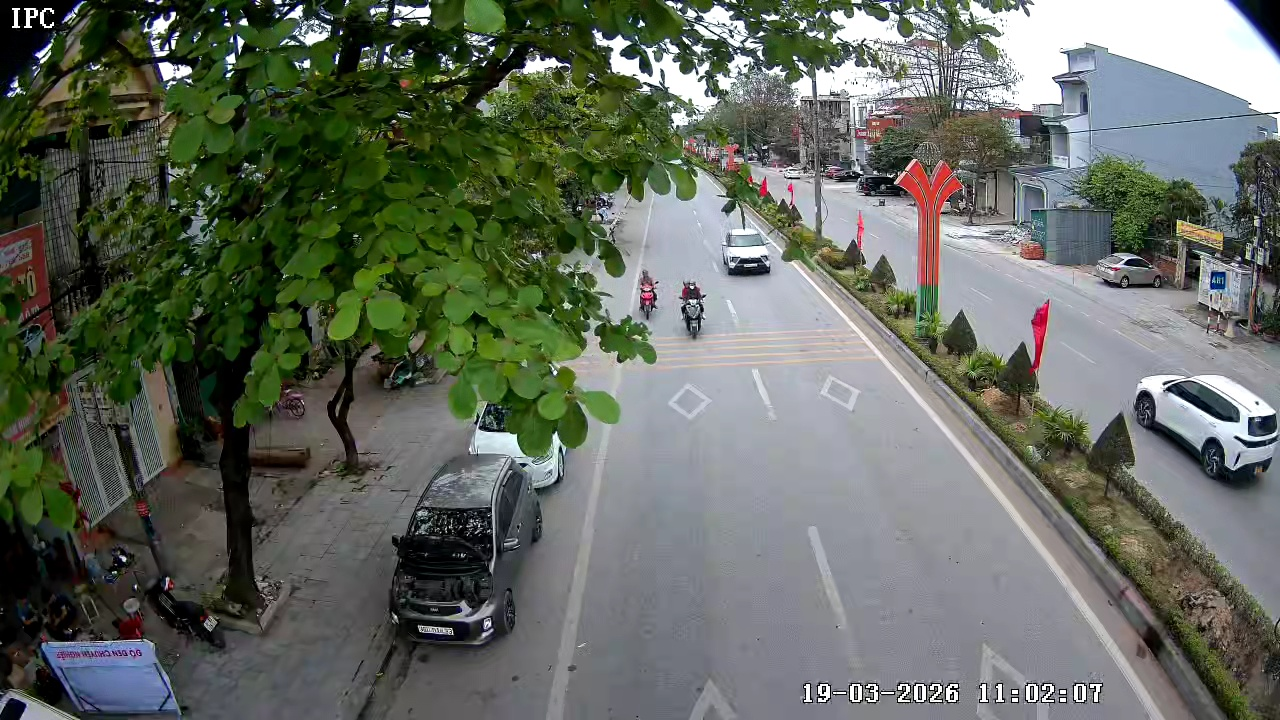car: (388, 453, 545, 647), (1132, 371, 1279, 483), (1092, 250, 1165, 289), (720, 227, 773, 276)
motorbike: (677, 277, 707, 339), (635, 266, 660, 321)
